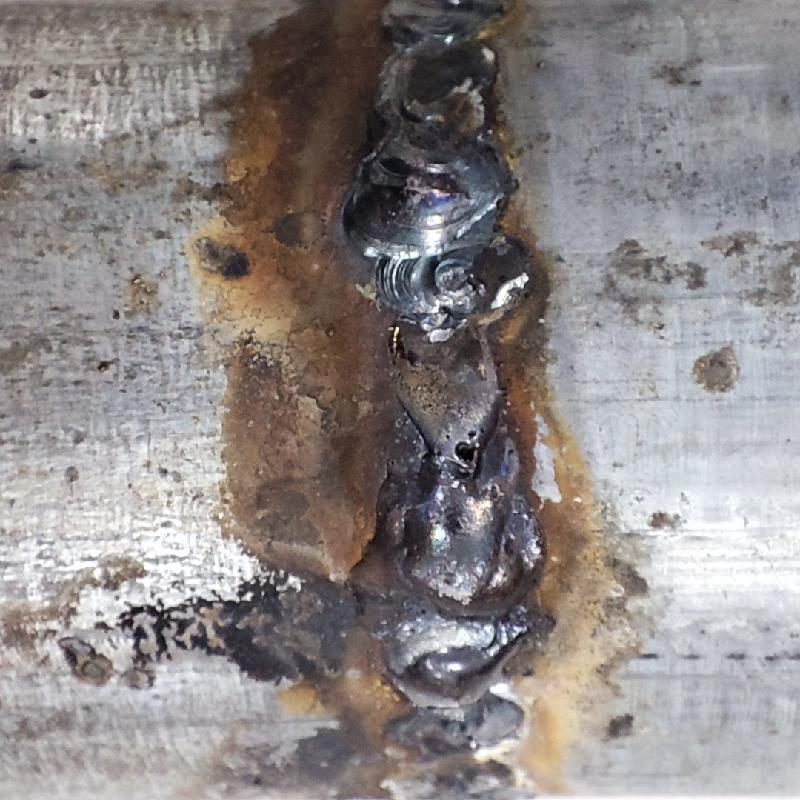Not_fully_soldered: (367, 258, 532, 470)
Surface_pores: (433, 426, 492, 470)
wrong_size: (346, 3, 513, 257)
